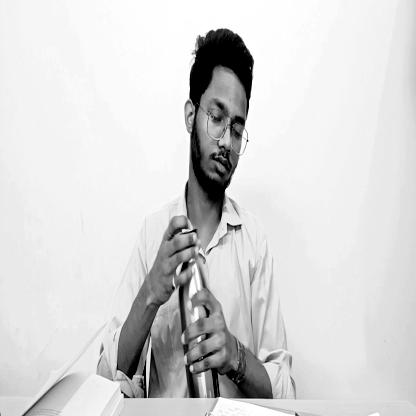Distracted: (186, 30, 261, 202)
